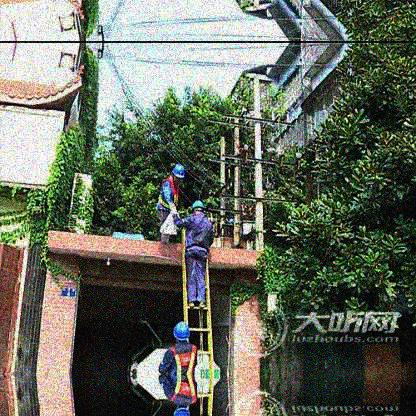helmet: (171, 320, 191, 344), (172, 164, 185, 185), (191, 200, 207, 215), (173, 404, 191, 416)
